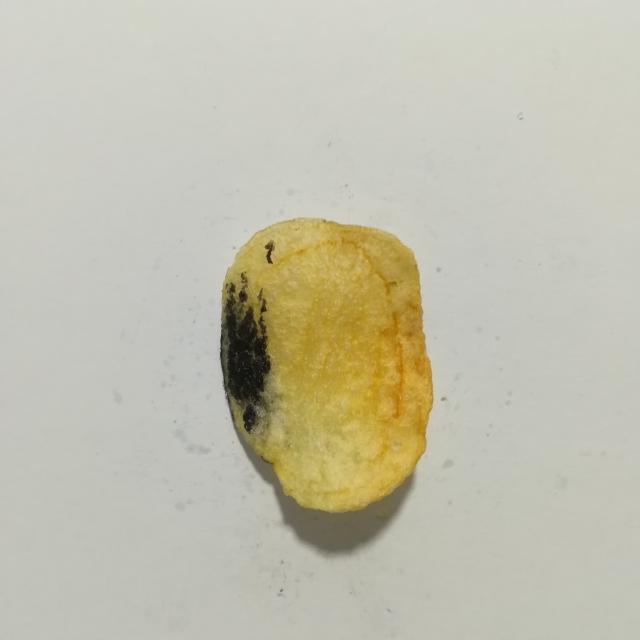chip: (221, 218, 433, 512)
damaged: (221, 272, 270, 432), (265, 240, 274, 264), (257, 288, 263, 301), (261, 299, 266, 313)
semi-damaged: (228, 366, 281, 449)
